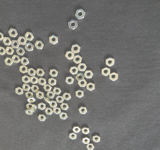nut: (76, 9, 86, 19), (25, 42, 35, 52), (69, 19, 78, 30), (9, 28, 18, 38), (50, 35, 59, 45), (35, 41, 45, 50), (16, 47, 26, 56), (12, 54, 21, 64), (72, 44, 81, 54), (65, 51, 75, 60), (73, 55, 83, 64), (106, 57, 115, 67), (102, 67, 111, 77), (110, 72, 119, 82), (78, 79, 88, 88), (3, 37, 12, 46), (11, 40, 20, 49), (18, 36, 27, 45), (25, 32, 34, 41), (21, 57, 30, 66), (78, 63, 87, 72), (70, 66, 79, 75), (76, 73, 85, 82), (36, 68, 45, 77), (50, 69, 59, 78), (38, 77, 47, 86), (36, 91, 45, 100), (5, 47, 15, 55), (84, 71, 94, 79), (5, 57, 13, 66), (66, 77, 75, 85), (87, 83, 95, 92), (76, 90, 84, 99), (79, 107, 88, 115), (20, 65, 28, 74), (28, 68, 36, 77), (22, 75, 30, 84), (30, 76, 38, 85), (22, 84, 31, 92), (31, 85, 40, 93), (63, 93, 72, 101), (45, 108, 54, 116), (53, 107, 62, 115), (49, 78, 57, 86), (26, 91, 34, 99), (44, 96, 52, 104), (50, 100, 58, 108), (61, 103, 69, 111), (60, 112, 68, 120), (82, 127, 90, 135), (93, 135, 101, 143), (43, 85, 52, 92), (53, 88, 62, 95), (16, 87, 23, 95), (47, 92, 55, 99), (56, 96, 64, 103), (26, 109, 34, 116), (38, 103, 46, 110), (38, 115, 46, 122), (73, 127, 81, 134), (83, 137, 90, 145), (0, 47, 6, 56), (27, 97, 36, 103), (70, 133, 77, 140), (87, 144, 95, 150), (32, 105, 37, 113), (0, 32, 4, 41), (27, 103, 33, 109)
